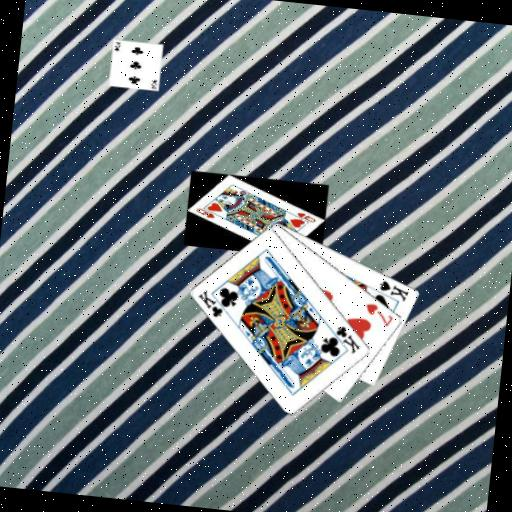7H: (361, 300, 396, 329)
KC: (325, 321, 365, 356), (194, 287, 234, 321)
KS: (375, 277, 411, 303)
